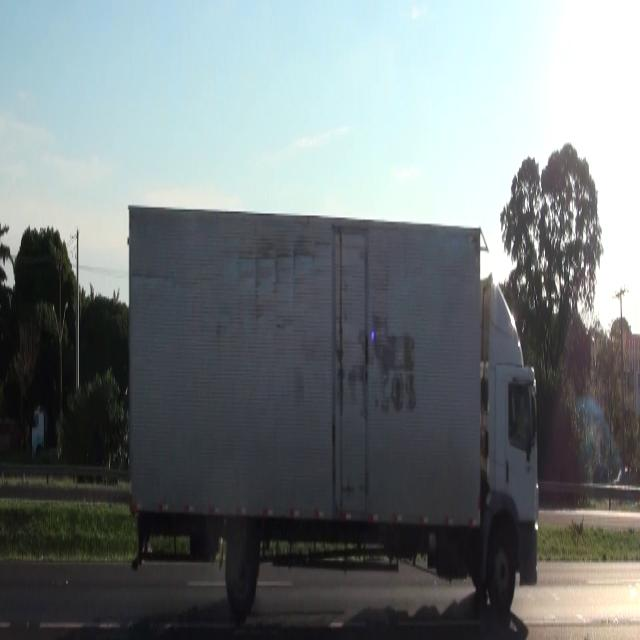-axle: (487, 526, 518, 614), (226, 526, 259, 608)
